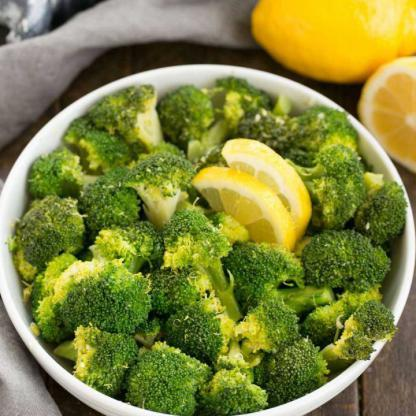broccoli: (4, 76, 409, 416)
